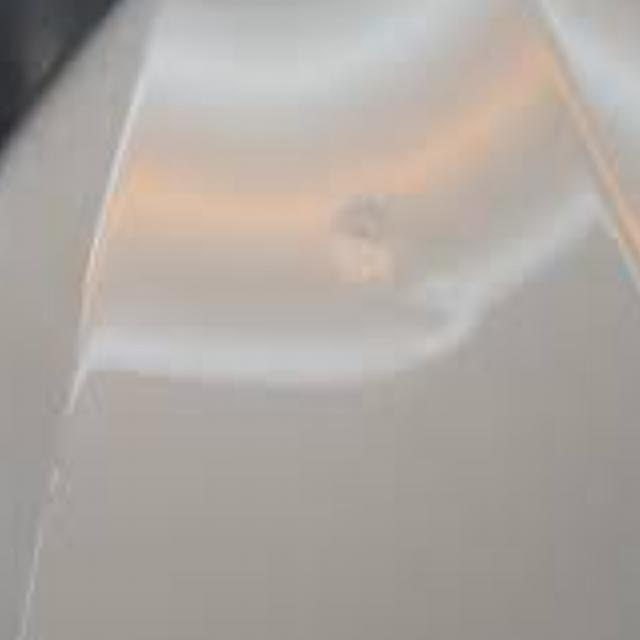dents: (326, 173, 401, 290)
